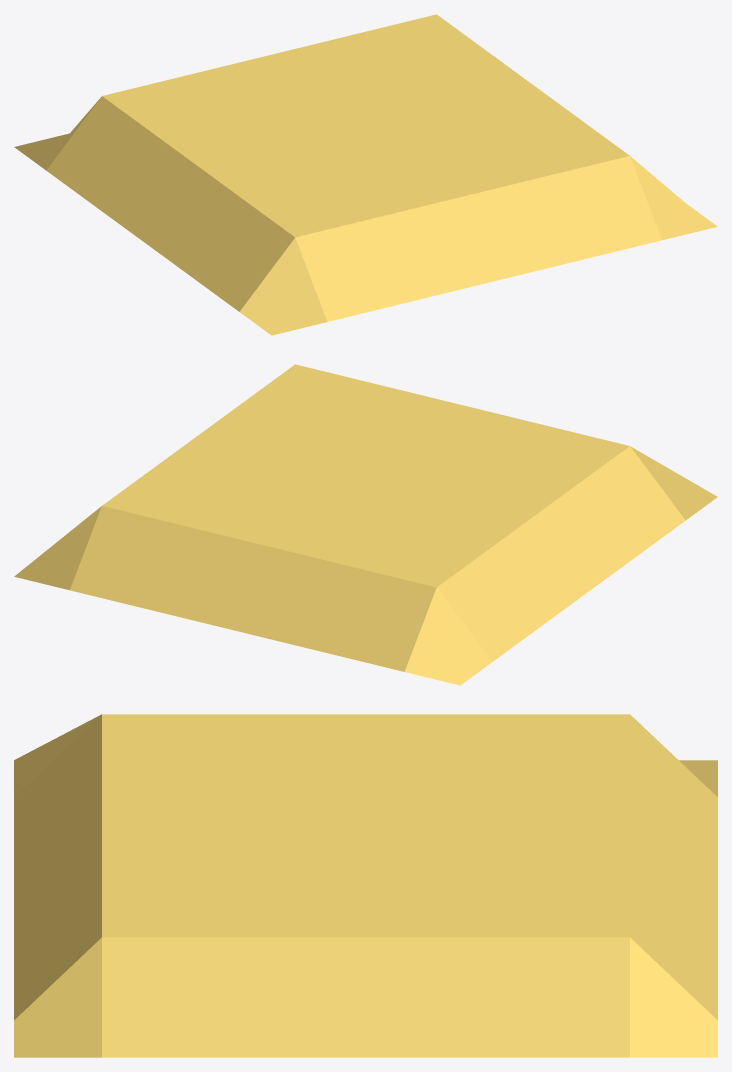
Rendered from Ground.gltf.
3 renders of one model, top to bottom at view 1: azimuth 30°, elevation 25°; view 2: azimuth 150°, elevation 25°; view 3: azimuth 270°, elevation 25°, orthographic. The views are drawn at different scales.
Visible parts, largest first — view 1: Ground; view 2: Ground; view 3: Ground.
Boxes of the visible parts, x1,y1,x2,y2 form: Ground: [14, 14, 717, 335]; Ground: [14, 364, 717, 685]; Ground: [14, 714, 717, 1057].
Bounding box in the file's own units: 20 × 2.61 × 20.
